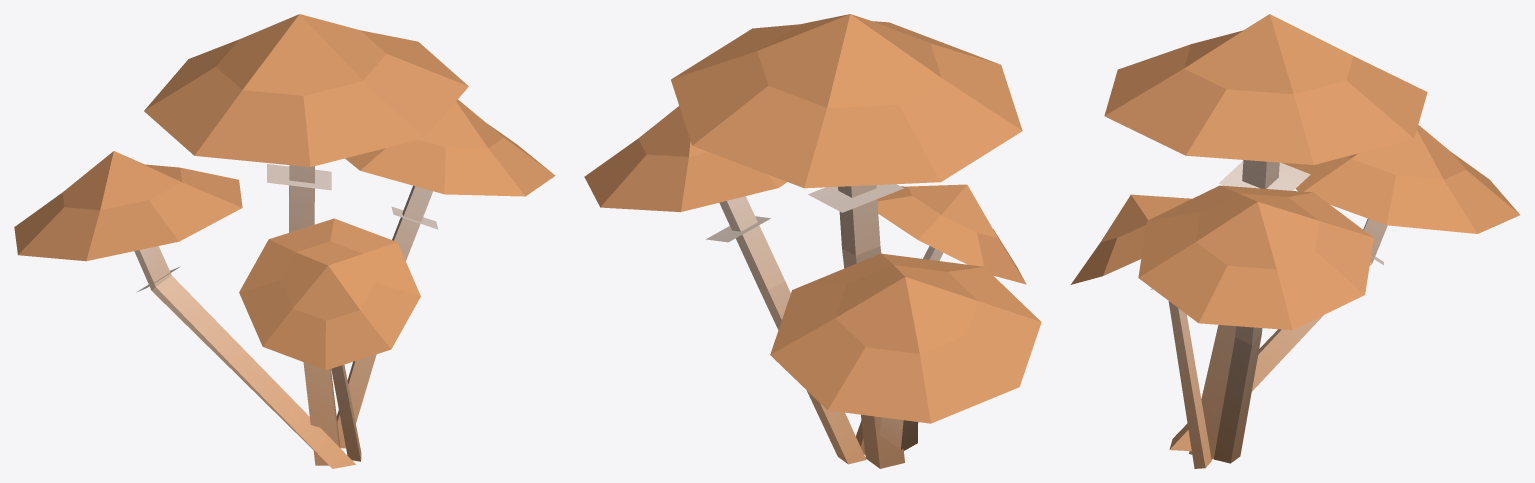
Rendered from Mushroom_i_05.fbx.
3 views of the same model, side by side, from view 1: azimuth 30°, elevation 25°; view 2: azimuth 150°, elevation 25°; view 3: azimuth 270°, elevation 25° (orthographic). The views are drawn at different scales.
Visible parts, largest first — view 1: Mushroom_i_05; view 2: Mushroom_i_05; view 3: Mushroom_i_05.
Part boxes in pixels (bbox=[...]): Mushroom_i_05: bbox=[14, 14, 555, 468]; Mushroom_i_05: bbox=[584, 14, 1041, 468]; Mushroom_i_05: bbox=[1071, 14, 1519, 468].
Size of the model in its own units: 0.4058 by 0.3719 by 0.343.
